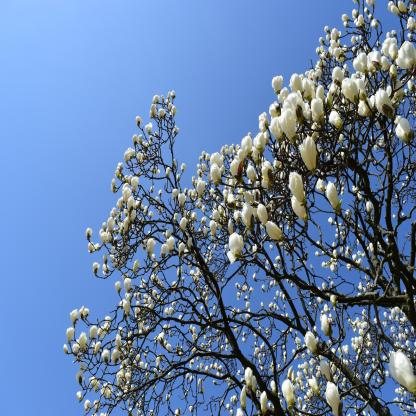Mokuren: (61, 0, 416, 416)
